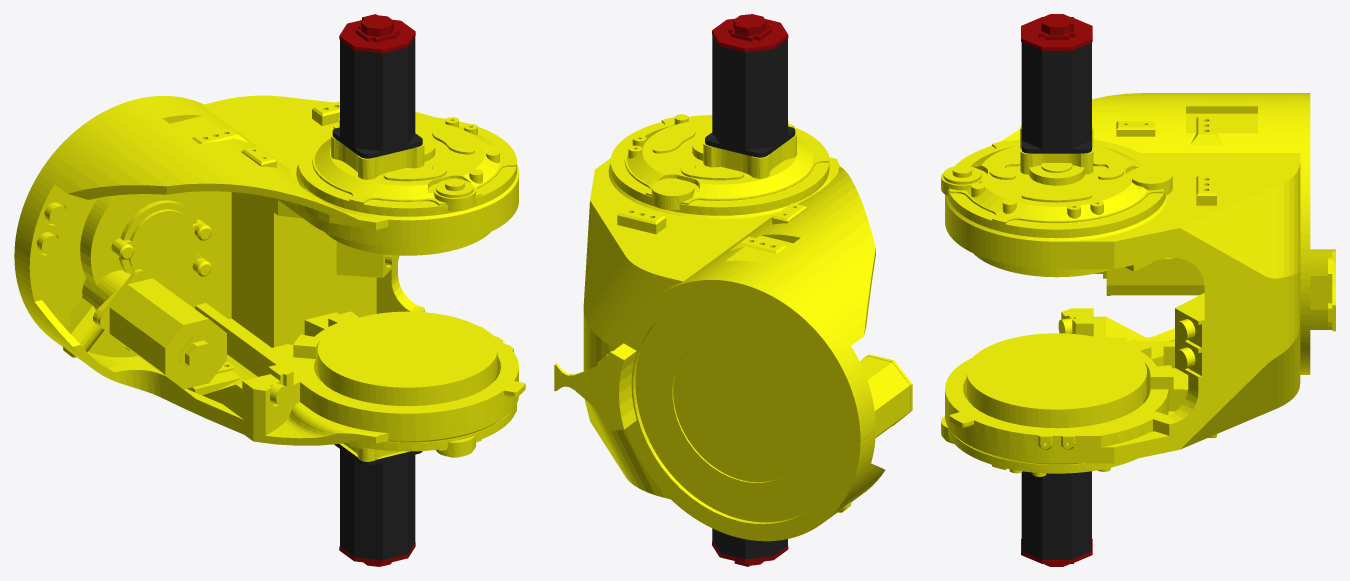
3 views of the same model, side by side, from view 1: azimuth 30°, elevation 25°; view 2: azimuth 150°, elevation 25°; view 3: azimuth 270°, elevation 25° (orthographic).
Visible parts, largest first — view 1: node; view 2: node; view 3: node.
Boxes of the visible parts, box(x1,y1,x2,y2) form: node: box(14, 14, 525, 566); node: box(554, 14, 912, 566); node: box(941, 14, 1335, 566).
Size of the model in its own units: 1031 by 1452 by 962.
